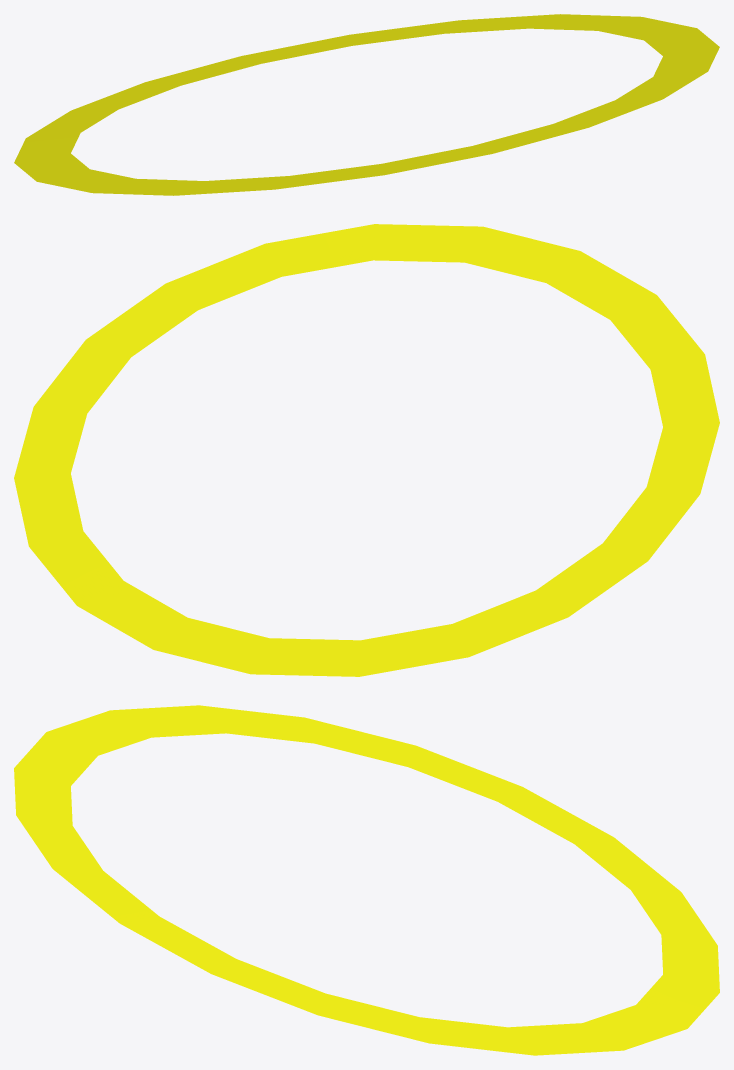
Rendered from RadialPulse.fbx.
The picture shows the model from 3 angles, top to bottom: view 1: azimuth 30°, elevation 25°; view 2: azimuth 150°, elevation 25°; view 3: azimuth 270°, elevation 25°; orthographic projection. The views are drawn at different scales.
Visible parts, largest first — view 1: CircleGeo; view 2: CircleGeo; view 3: CircleGeo.
Part boxes in pixels (left/top/right/bottom): CircleGeo: left=14, top=14, right=719, bottom=195; CircleGeo: left=14, top=224, right=719, bottom=676; CircleGeo: left=14, top=705, right=719, bottom=1055.
Size of the model in its own units: 14.54 by 4.01 by 14.
